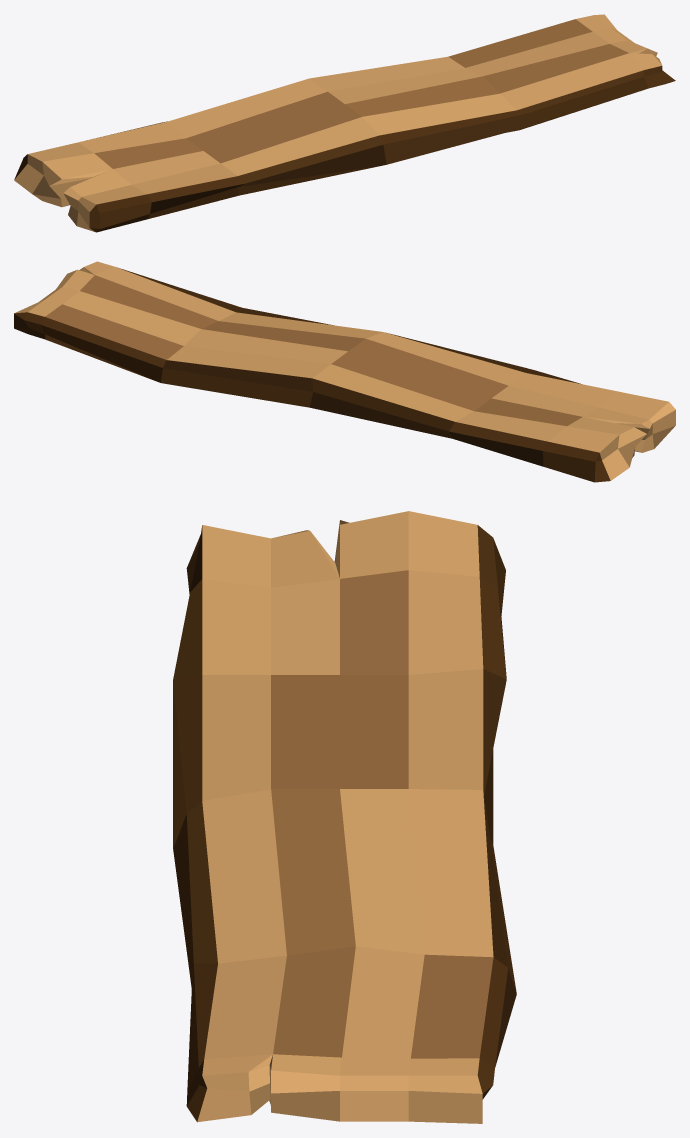
Rendered from plank.fbx.
3 renders of one model, top to bottom at view 1: azimuth 30°, elevation 25°; view 2: azimuth 150°, elevation 25°; view 3: azimuth 270°, elevation 25°, orthographic. The views are drawn at different scales.
Parts seen in each view (by area): view 1: plank; view 2: plank; view 3: plank.
Part boxes in pixels (box(x1,y1,x2,y2)): plank: box(14, 14, 675, 232); plank: box(14, 261, 675, 482); plank: box(173, 511, 516, 1123).
Bounding box in the file's own units: 1 × 0.2518 × 0.0661.
